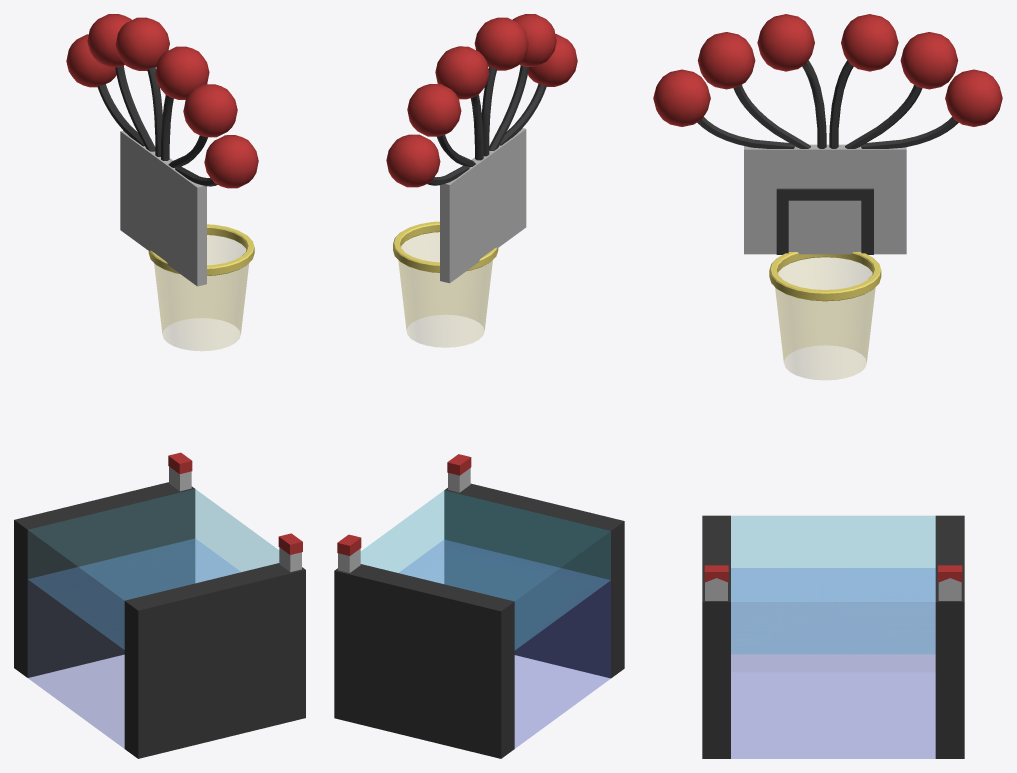
Rendered from BasketBall.fbx.
The picture shows the model from 3 angles, left to right: view 1: azimuth 30°, elevation 25°; view 2: azimuth 150°, elevation 25°; view 3: azimuth 270°, elevation 25°; orthographic projection. The views are drawn at different scales.
Visible parts, largest first — view 1: Side_L, Side_R, Water_up, Water_down, BasketBallKorb, Zylinder, Kugel, Kugel_2, Kugel_1, Korb, Sweep, Sweep_1 (+1 smaller); view 2: Side_R, Side_L, Water_up, Water_down, BasketBallKorb, Zylinder, Kugel, Kugel_2, Kugel_1, Korb, Sweep, Sweep_1 (+1 smaller); view 3: Water_down, Water_up, BasketBallKorb, Zylinder, Side_R, Side_L, Kugel, Kugel_1, Kugel_2, Markierung, Korb, Sweep_1 (+2 smaller).
Boxes of the visible parts, <box> form: Side_L: <box>124,563,305,758</box>; Side_R: <box>14,482,195,677</box>; Water_up: <box>28,489,278,649</box>; Water_down: <box>28,539,240,748</box>; BasketBallKorb: <box>120,130,206,286</box>; Zylinder: <box>154,235,248,350</box>; Kugel: <box>115,17,209,99</box>; Kugel_2: <box>66,34,258,188</box>; Kugel_1: <box>87,14,237,137</box>; Korb: <box>148,224,254,275</box>; Sweep: <box>147,67,173,160</box>; Sweep_1: <box>115,66,207,167</box>; Side_R: <box>334,564,514,758</box>; Side_L: <box>444,483,624,678</box>; Water_up: <box>361,490,610,649</box>; Water_down: <box>399,540,610,748</box>; BasketBallKorb: <box>440,128,526,283</box>; Zylinder: <box>398,232,492,347</box>; Kugel: <box>435,17,528,99</box>; Kugel_2: <box>386,34,577,187</box>; Kugel_1: <box>407,14,556,136</box>; Korb: <box>393,221,498,272</box>; Sweep: <box>470,67,496,160</box>; Sweep_1: <box>437,65,528,167</box>; Water_down: <box>731,568,935,758</box>; Water_up: <box>731,516,935,653</box>; BasketBallKorb: <box>744,144,906,254</box>; Zylinder: <box>775,257,875,379</box>; Side_R: <box>935,515,964,758</box>; Side_L: <box>702,515,730,758</box>; Kugel: <box>757,14,898,71</box>; Kugel_1: <box>697,32,958,89</box>; Kugel_2: <box>653,69,1002,126</box>; Markierung: <box>776,188,873,254</box>; Korb: <box>769,252,881,301</box>; Sweep_1: <box>733,85,922,148</box>.
Size of the model in its own units: 355 by 1337 by 606.
